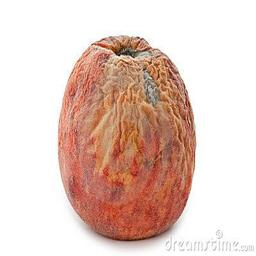Peach Rotten: (55, 32, 199, 241)
